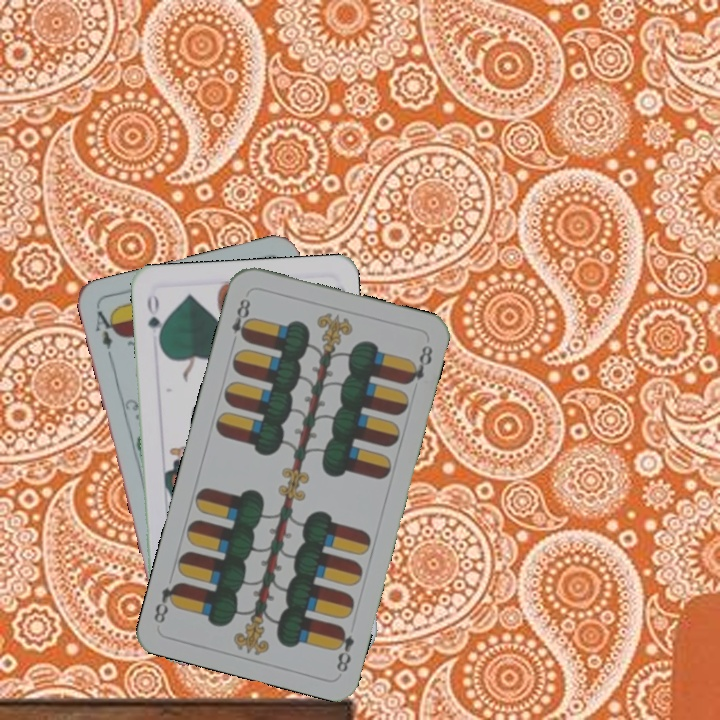E8: (227, 294, 254, 348), (330, 622, 357, 675)
EA: (91, 306, 120, 363)
GO: (143, 290, 167, 348)
